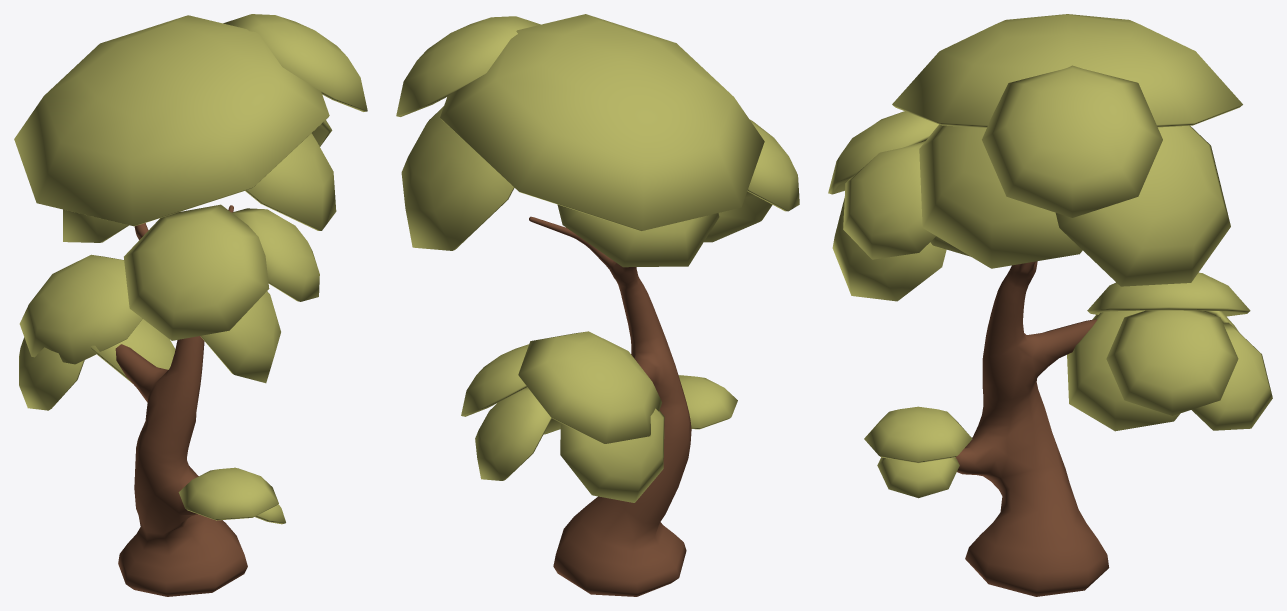
File: tree01.fbx
3 views of the same model, side by side, from view 1: azimuth 30°, elevation 25°; view 2: azimuth 150°, elevation 25°; view 3: azimuth 270°, elevation 25° (orthographic). The views are drawn at different scales.
Visible parts, largest first — view 1: Cube.004; view 2: Cube.004; view 3: Cube.004.
Part boxes in pixels (x1,y1,x2,y2): Cube.004: (14,14,367,596); Cube.004: (396,14,799,596); Cube.004: (828,14,1272,596).
Size of the model in its own units: 6.68 by 10.55 by 7.49.
